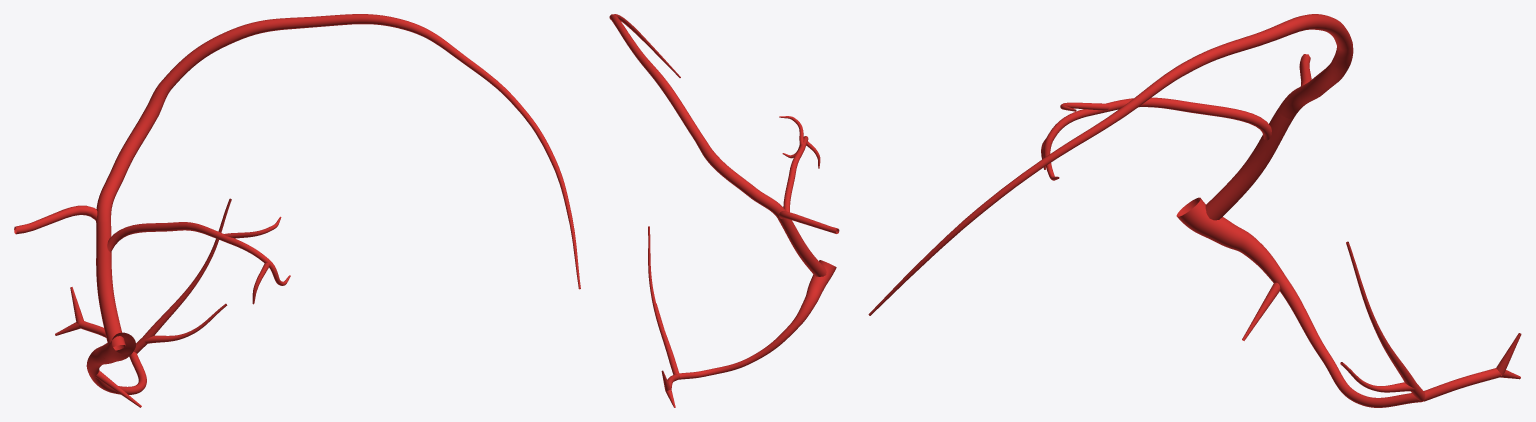
File: circulatorio-posterior-division-of-internal-iliac-artery-l.glb
3 views of the same model, side by side, from view 1: azimuth 30°, elevation 25°; view 2: azimuth 150°, elevation 25°; view 3: azimuth 270°, elevation 25° (orthographic). The views are drawn at different scales.
Parts seen in each view (by area): view 1: Iliacus branch of iliolumbar artery.l, Superior gluteal artery.l, Lumbar branch of iliolumbar artery.l, Iliolumbar artery.l, Spinal branch of iliolumbar artery.l, Posterior division of internal iliac artery.l; view 2: Iliacus branch of iliolumbar artery.l, Superior gluteal artery.l, Iliolumbar artery.l, Lumbar branch of iliolumbar artery.l, Spinal branch of iliolumbar artery.l, Posterior division of internal iliac artery.l; view 3: Iliacus branch of iliolumbar artery.l, Superior gluteal artery.l, Lumbar branch of iliolumbar artery.l, Iliolumbar artery.l, Posterior division of internal iliac artery.l.
Part boxes in pixels (<box>): Iliacus branch of iliolumbar artery.l: <box>96,14,580,289</box>; Superior gluteal artery.l: <box>55,198,231,407</box>; Lumbar branch of iliolumbar artery.l: <box>107,216,290,304</box>; Iliolumbar artery.l: <box>96,221,125,350</box>; Spinal branch of iliolumbar artery.l: <box>14,205,97,234</box>; Posterior division of internal iliac artery.l: <box>102,332,135,362</box>; Iliacus branch of iliolumbar artery.l: <box>609,14,785,220</box>; Superior gluteal artery.l: <box>648,226,823,407</box>; Iliolumbar artery.l: <box>778,218,826,276</box>; Lumbar branch of iliolumbar artery.l: <box>779,116,820,212</box>; Spinal branch of iliolumbar artery.l: <box>779,211,839,233</box>; Posterior division of internal iliac artery.l: <box>810,260,836,288</box>; Iliacus branch of iliolumbar artery.l: <box>868,14,1353,315</box>; Superior gluteal artery.l: <box>1216,221,1521,407</box>; Lumbar branch of iliolumbar artery.l: <box>1041,97,1271,180</box>; Iliolumbar artery.l: <box>1205,108,1293,220</box>; Posterior division of internal iliac artery.l: <box>1176,197,1229,241</box>.
Bounding box in the file's own units: 0.1083 × 0.0955 × 0.1233.
